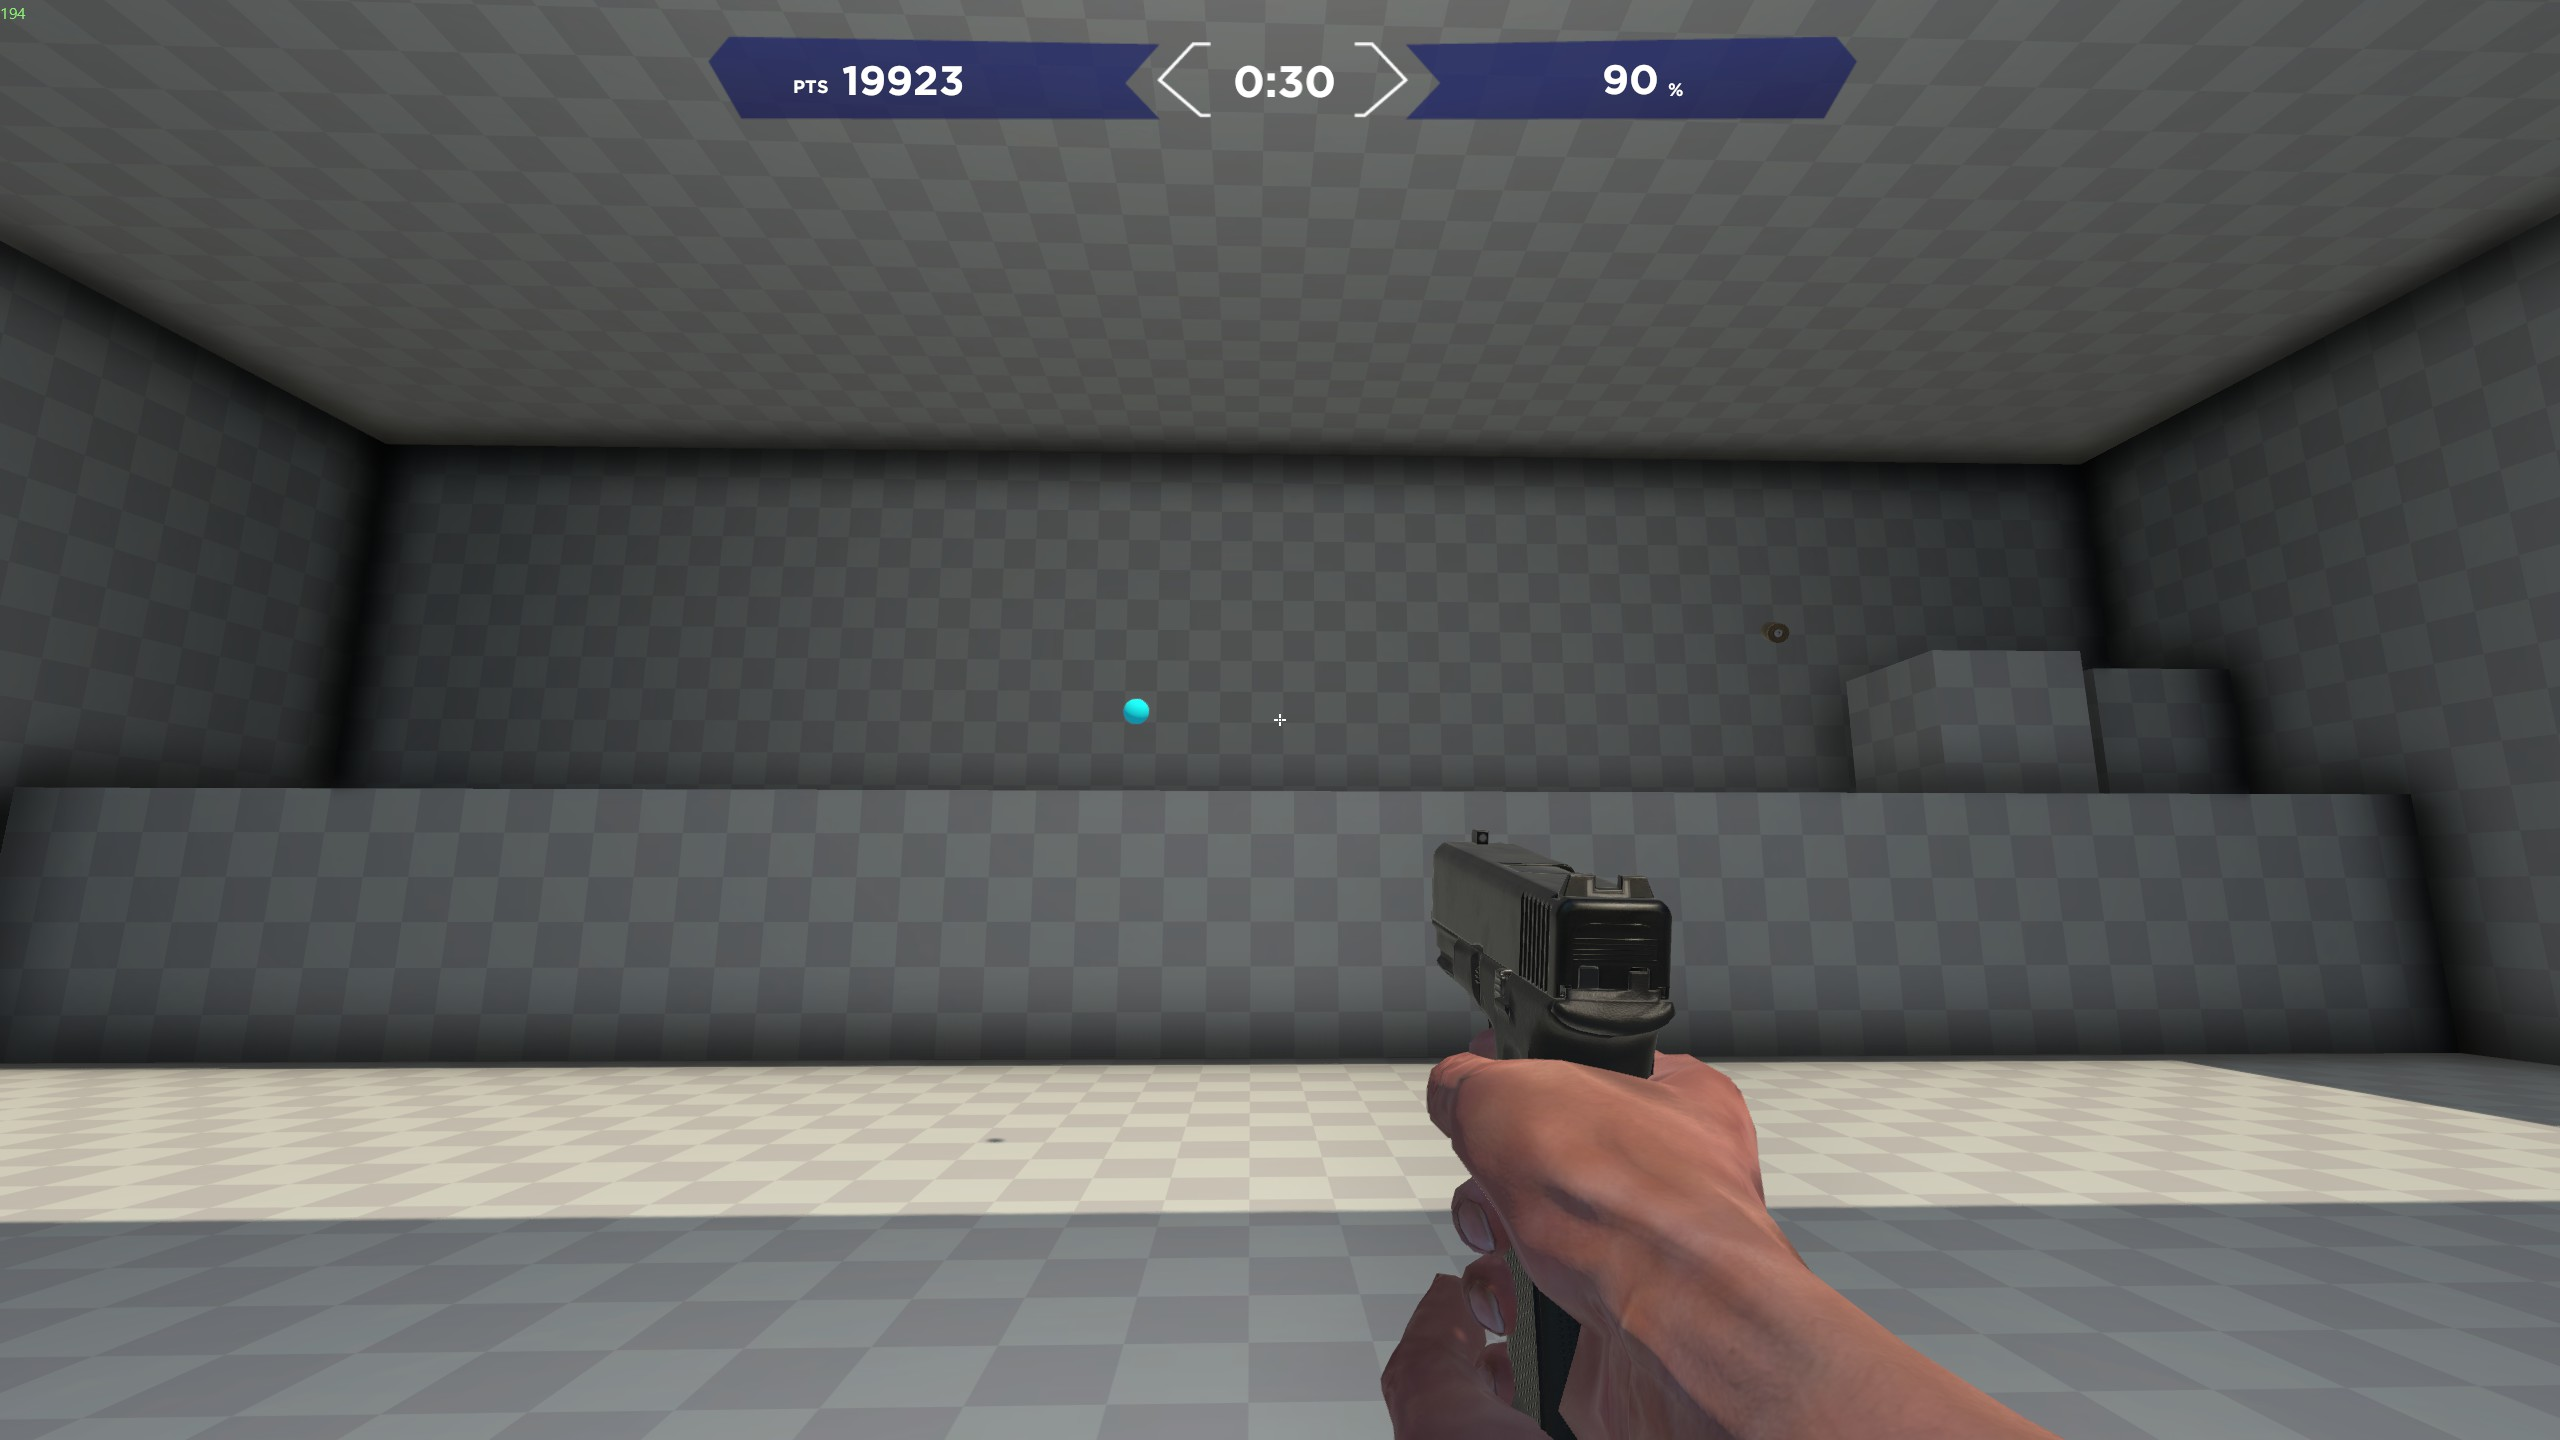Target: (1122, 696, 1155, 726)
